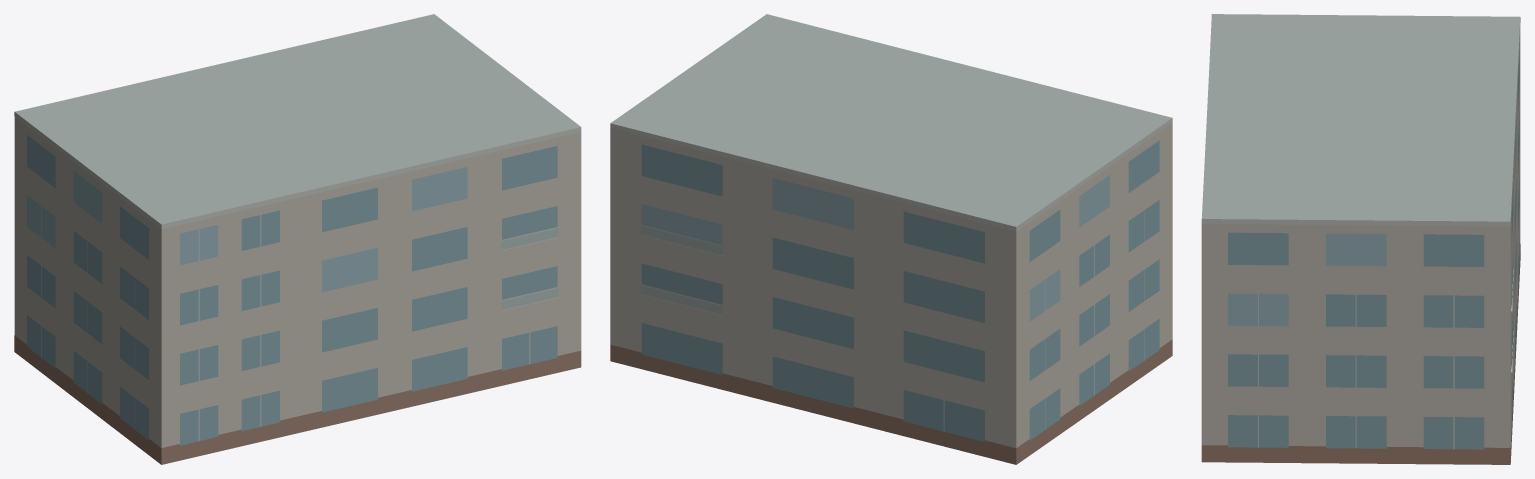
File: residential-153a087e-a46a-432b-86e4-0a9098c9ac08.glb
3 renders of one model, left to right at view 1: azimuth 30°, elevation 25°; view 2: azimuth 150°, elevation 25°; view 3: azimuth 270°, elevation 25°, orthographic. The views are drawn at different scales.
Visible parts, largest first — view 1: residential-153a087e-a46a-432b-86e4-0a9098c9ac08.tmp; view 2: residential-153a087e-a46a-432b-86e4-0a9098c9ac08.tmp; view 3: residential-153a087e-a46a-432b-86e4-0a9098c9ac08.tmp.
Boxes of the visible parts, x1,y1,x2,y2 form: residential-153a087e-a46a-432b-86e4-0a9098c9ac08.tmp: (14, 14, 581, 464); residential-153a087e-a46a-432b-86e4-0a9098c9ac08.tmp: (610, 14, 1172, 464); residential-153a087e-a46a-432b-86e4-0a9098c9ac08.tmp: (1201, 14, 1520, 464).
Bounding box in the file's own units: 22.34 × 12.2 × 14.5.
